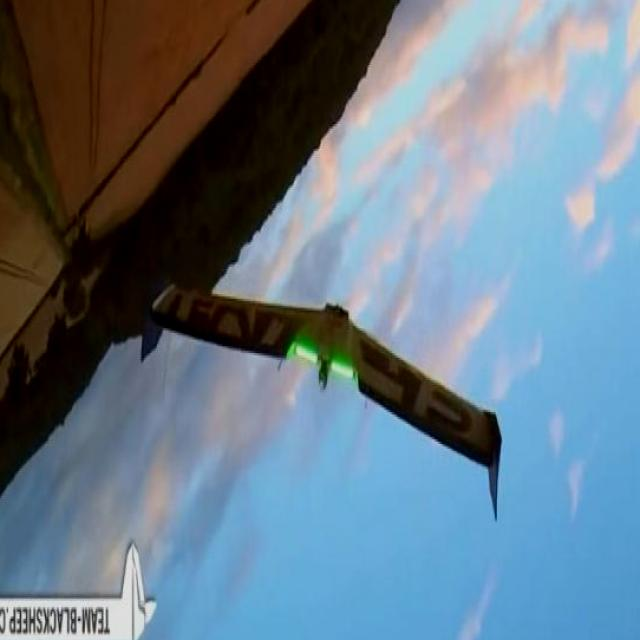plane: (140, 280, 504, 523)
